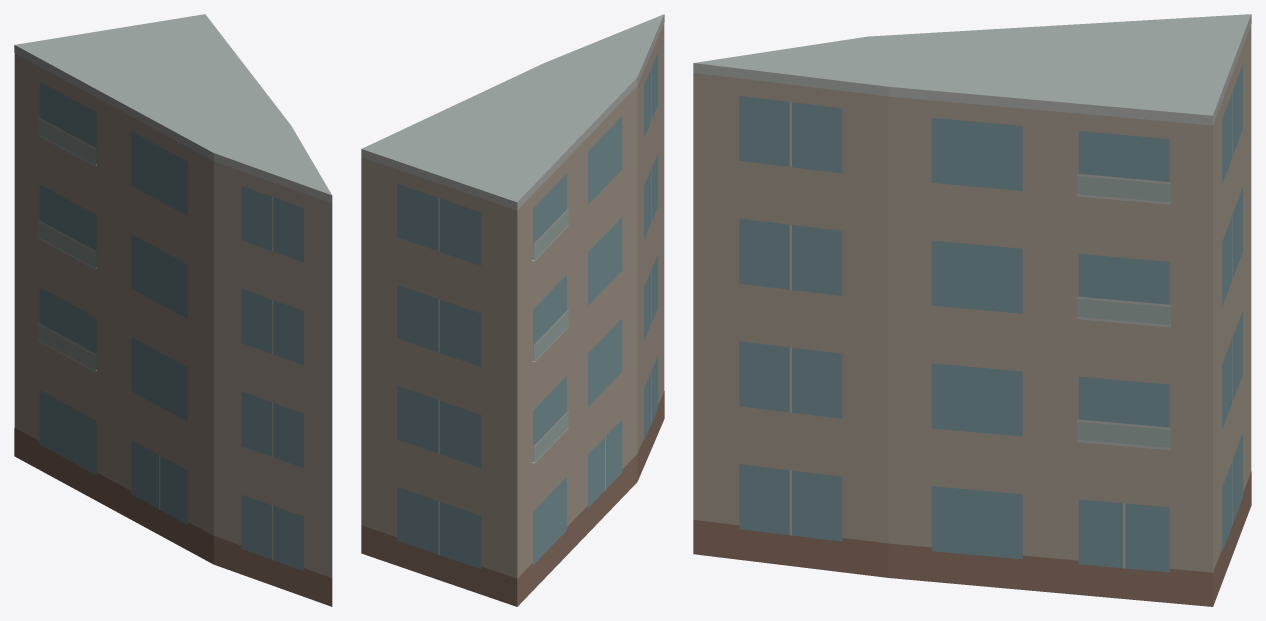
Rendered from survey-upis-32472509.glb.
The picture shows the model from 3 angles, left to right: view 1: azimuth 30°, elevation 25°; view 2: azimuth 150°, elevation 25°; view 3: azimuth 270°, elevation 25°; orthographic projection. The views are drawn at different scales.
Visible parts, largest first — view 1: survey-upis-32472509.tmp; view 2: survey-upis-32472509.tmp; view 3: survey-upis-32472509.tmp.
Part boxes in pixels (<box>): survey-upis-32472509.tmp: <box>14,14,332,606</box>; survey-upis-32472509.tmp: <box>361,14,664,606</box>; survey-upis-32472509.tmp: <box>693,14,1251,606</box>.
Size of the model in its own units: 5.43 by 12.2 by 12.57.
